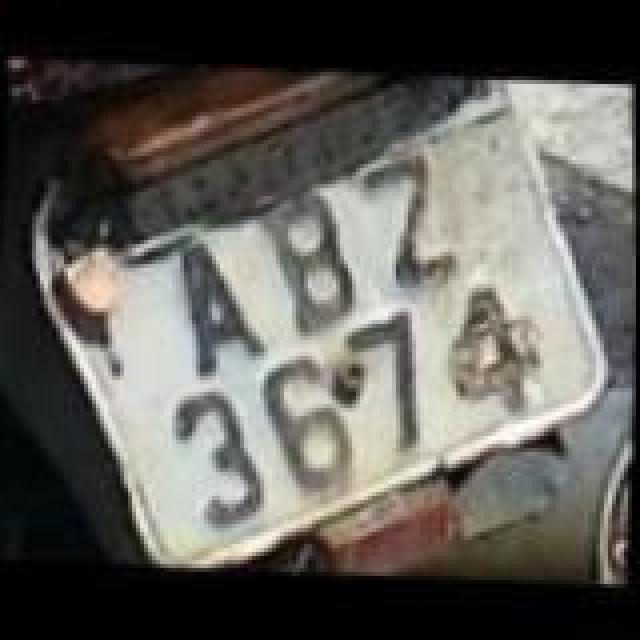3: (160, 382, 268, 534)
4: (444, 276, 544, 420)
6: (258, 344, 366, 500)
7: (340, 302, 432, 450)
A: (168, 232, 272, 388)
B: (246, 184, 366, 340)
Z: (350, 142, 470, 294)
